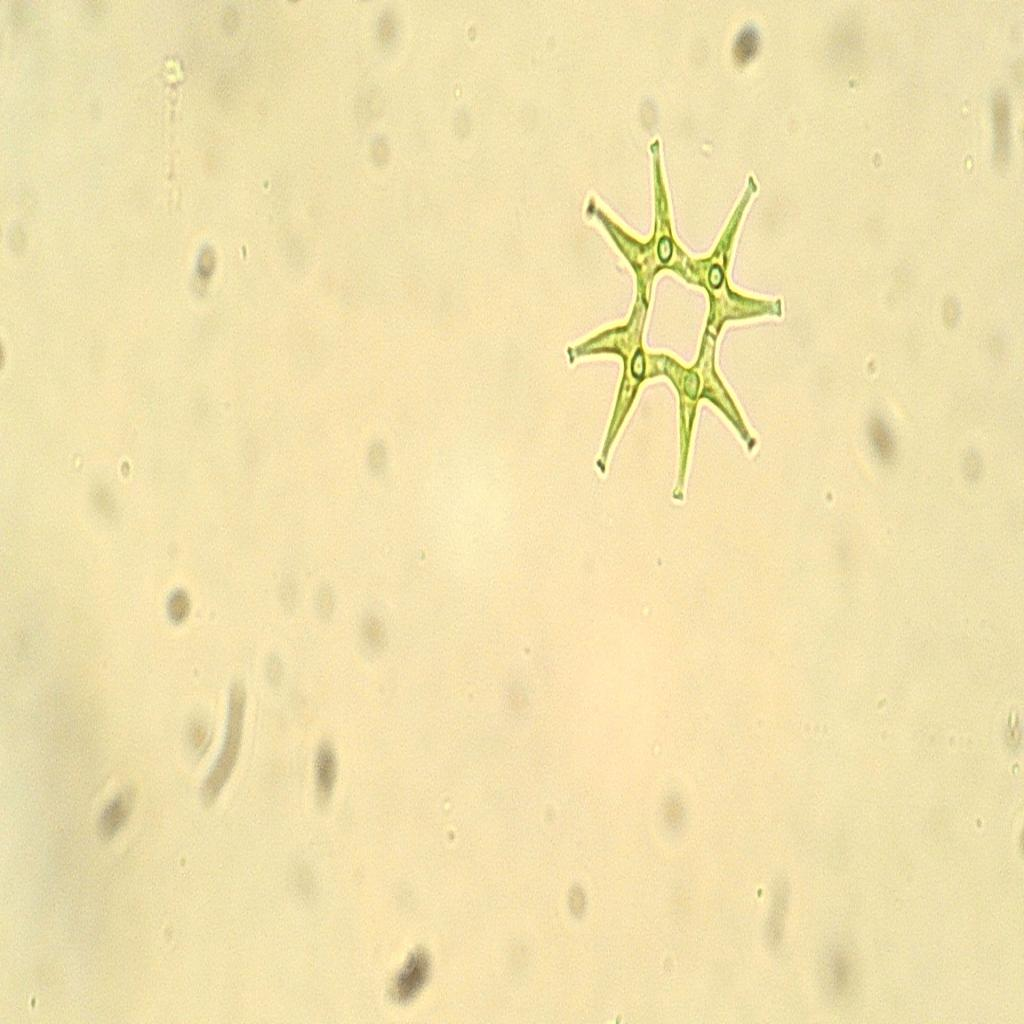Pediastrum_10: (534, 122, 801, 528)
